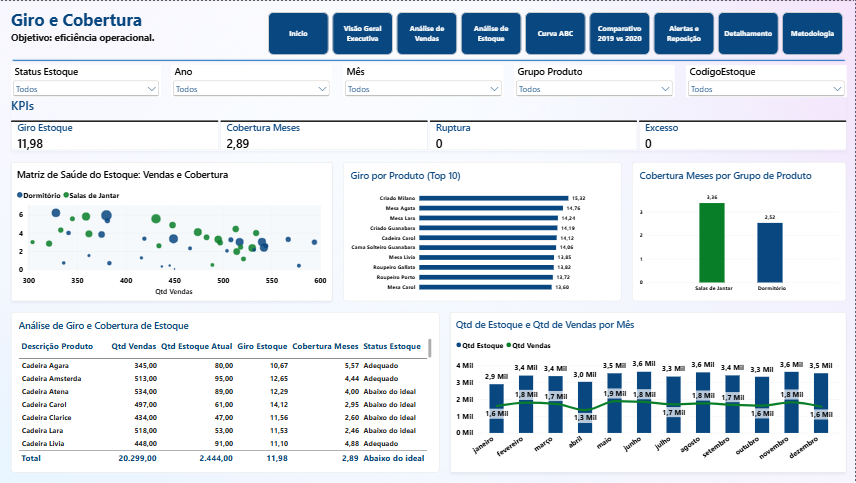

Layout of this report page (visuals, bound fields, positions):
{"tool":"powerbi","page":{"name":"Giro e Cobertura","canvas":[1920,1080],"ordinal":4},"visuals":[{"type":"textbox","box":[24,0,552,120],"z":0},{"type":"pageNavigator","title":"Áreas de Análise:","box":[600,24,1296,96],"z":1000},{"type":"shape","box":[24,120,1872,24],"z":2000},{"type":"cardVisual","title":"KPIs","fields":{"Data":["Medidas.Giro Estoque","Medidas.Cobertura Meses","Medidas.Ruptura","Medidas.Excesso"]},"box":[24,216,1872,120],"z":3000},{"type":"scatterChart","title":"Matriz de Saúde do Estoque: Vendas e Cobertura","fields":{"Category":["dProduto.Descrição Produto"],"Series":["dGrupoProduto.Grupo Produto"],"Size":["MedidasDeCorrecao.Valor Estoque Atual"],"X":["Medidas.Qtd Vendas"],"Y":["Medidas.Cobertura Meses"]},"box":[24,360,720,312],"z":4000},{"type":"barChart","title":"Giro por Produto (Top 10)","fields":{"Category":["dProduto.Descrição Produto"],"Y":["Medidas.Giro Estoque"]},"box":[768,360,624,312],"z":5000},{"type":"columnChart","title":"Cobertura Meses por Grupo de Produto","fields":{"Category":["dGrupoProduto.Grupo Produto"],"Y":["Medidas.Cobertura Meses"]},"box":[1416,360,480,312],"z":6000},{"type":"tableEx","title":"Análise de Giro e Cobertura de Estoque","fields":{"Values":["dProduto.Descrição Produto","Medidas.Qtd Vendas","MedidasDeCorrecao.Qtd Estoque Atual","Medidas.Giro Estoque","Medidas.Cobertura Meses","Medidas.Status Estoque"]},"box":[24,696,960,360],"z":7000},{"type":"lineClusteredColumnComboChart","title":"Qtd de Estoque e Qtd de Vendas por Mês","fields":{"Category":["dCalendario.Mês"],"Y":["Medidas.Qtd Estoque"],"Y2":["Medidas.Qtd Vendas"]},"box":[1008,696,888,360],"z":8000},{"type":"slicer","fields":{"Values":["dCalendario.Ano"]},"box":[384,144,360,72],"z":9000},{"type":"slicer","fields":{"Values":["dCalendario.Mês"]},"box":[768,144,360,72],"z":10000},{"type":"slicer","fields":{"Values":["dGrupoProduto.Grupo Produto"]},"box":[1152,144,360,72],"z":11000},{"type":"slicer","fields":{"Values":["dEstoque.CodigoEstoque"]},"box":[1536,144,360,72],"z":12000},{"type":"slicer","fields":{"Values":["dProduto.Status Estoque (coluna)"]},"box":[24,144,336,72],"z":13000}]}

Visuals, with their boxes in screenshot pixels (x1, y1, x2, y2), scaled from the page's 1920x1080 canvas onto the 856x483 screenshot:
textbox: rect(11, 0, 257, 54)
"Áreas de Análise:" pageNavigator: rect(268, 11, 845, 54)
shape: rect(11, 54, 845, 64)
"KPIs" cardVisual: rect(11, 97, 845, 150)
"Matriz de Saúde do Estoque: Vendas e Cobertura" scatterChart: rect(11, 161, 332, 301)
"Giro por Produto (Top 10)" barChart: rect(342, 161, 621, 301)
"Cobertura Meses por Grupo de Produto" columnChart: rect(631, 161, 845, 301)
"Análise de Giro e Cobertura de Estoque" tableEx: rect(11, 311, 439, 472)
"Qtd de Estoque e Qtd de Vendas por Mês" lineClusteredColumnComboChart: rect(449, 311, 845, 472)
slicer - dCalendario.Ano: rect(171, 64, 332, 97)
slicer - dCalendario.Mês: rect(342, 64, 503, 97)
slicer - dGrupoProduto.Grupo Produto: rect(514, 64, 674, 97)
slicer - dEstoque.CodigoEstoque: rect(685, 64, 845, 97)
slicer - dProduto.Status Estoque (coluna): rect(11, 64, 160, 97)
